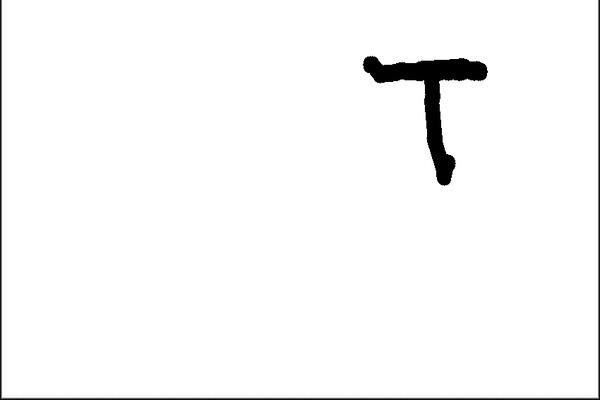T: (355, 53, 500, 186)
